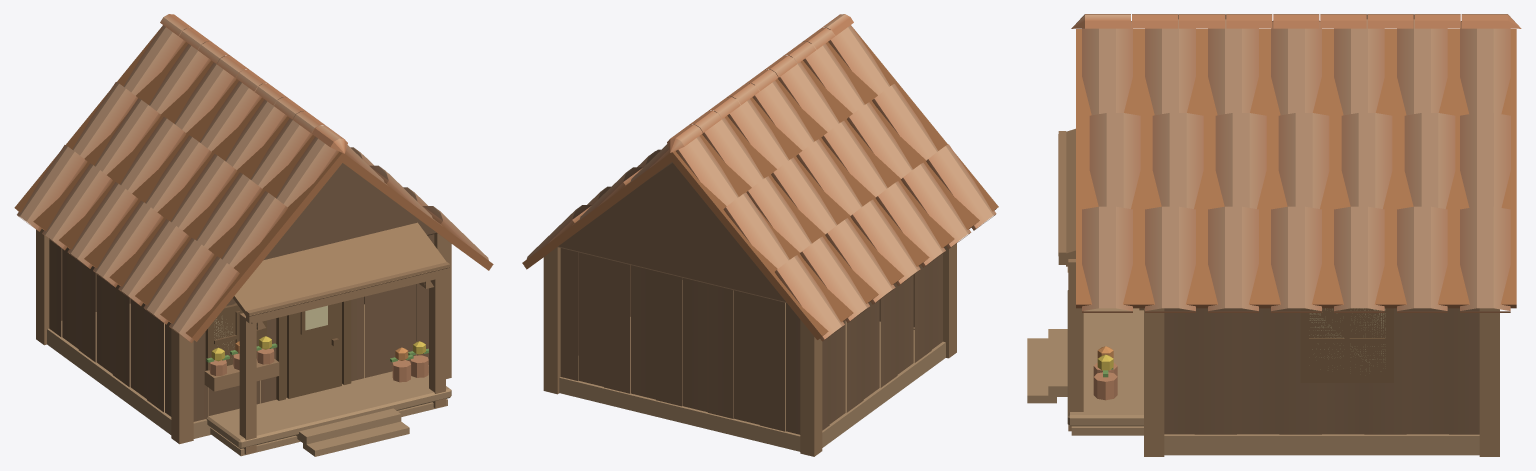
The model's file is cozy_cottage.glb.
3 views of the same model, side by side, from view 1: azimuth 30°, elevation 25°; view 2: azimuth 150°, elevation 25°; view 3: azimuth 270°, elevation 25° (orthographic). The views are drawn at different scales.
Visible parts, largest first — view 1: CottageBody, CottageRoof; view 2: CottageBody, CottageRoof; view 3: CottageRoof, CottageBody.
Part boxes in pixels (x1=…): CottageBody: x1=36, y1=163, x2=451, y2=456; CottageRoof: x1=14, y1=14, x2=493, y2=343; CottageBody: x1=543, y1=162, x2=956, y2=456; CottageRoof: x1=522, y1=14, x2=998, y2=341; CottageRoof: x1=1071, y1=14, x2=1521, y2=312; CottageBody: x1=1027, y1=128, x2=1499, y2=456.
Bounding box in the file's own units: 5.23 × 4.68 × 5.83.
